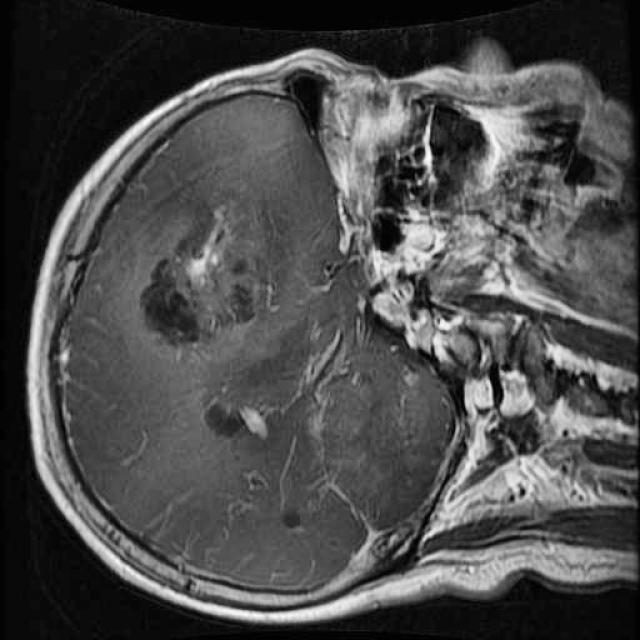Tumor: (121, 166, 310, 367)
